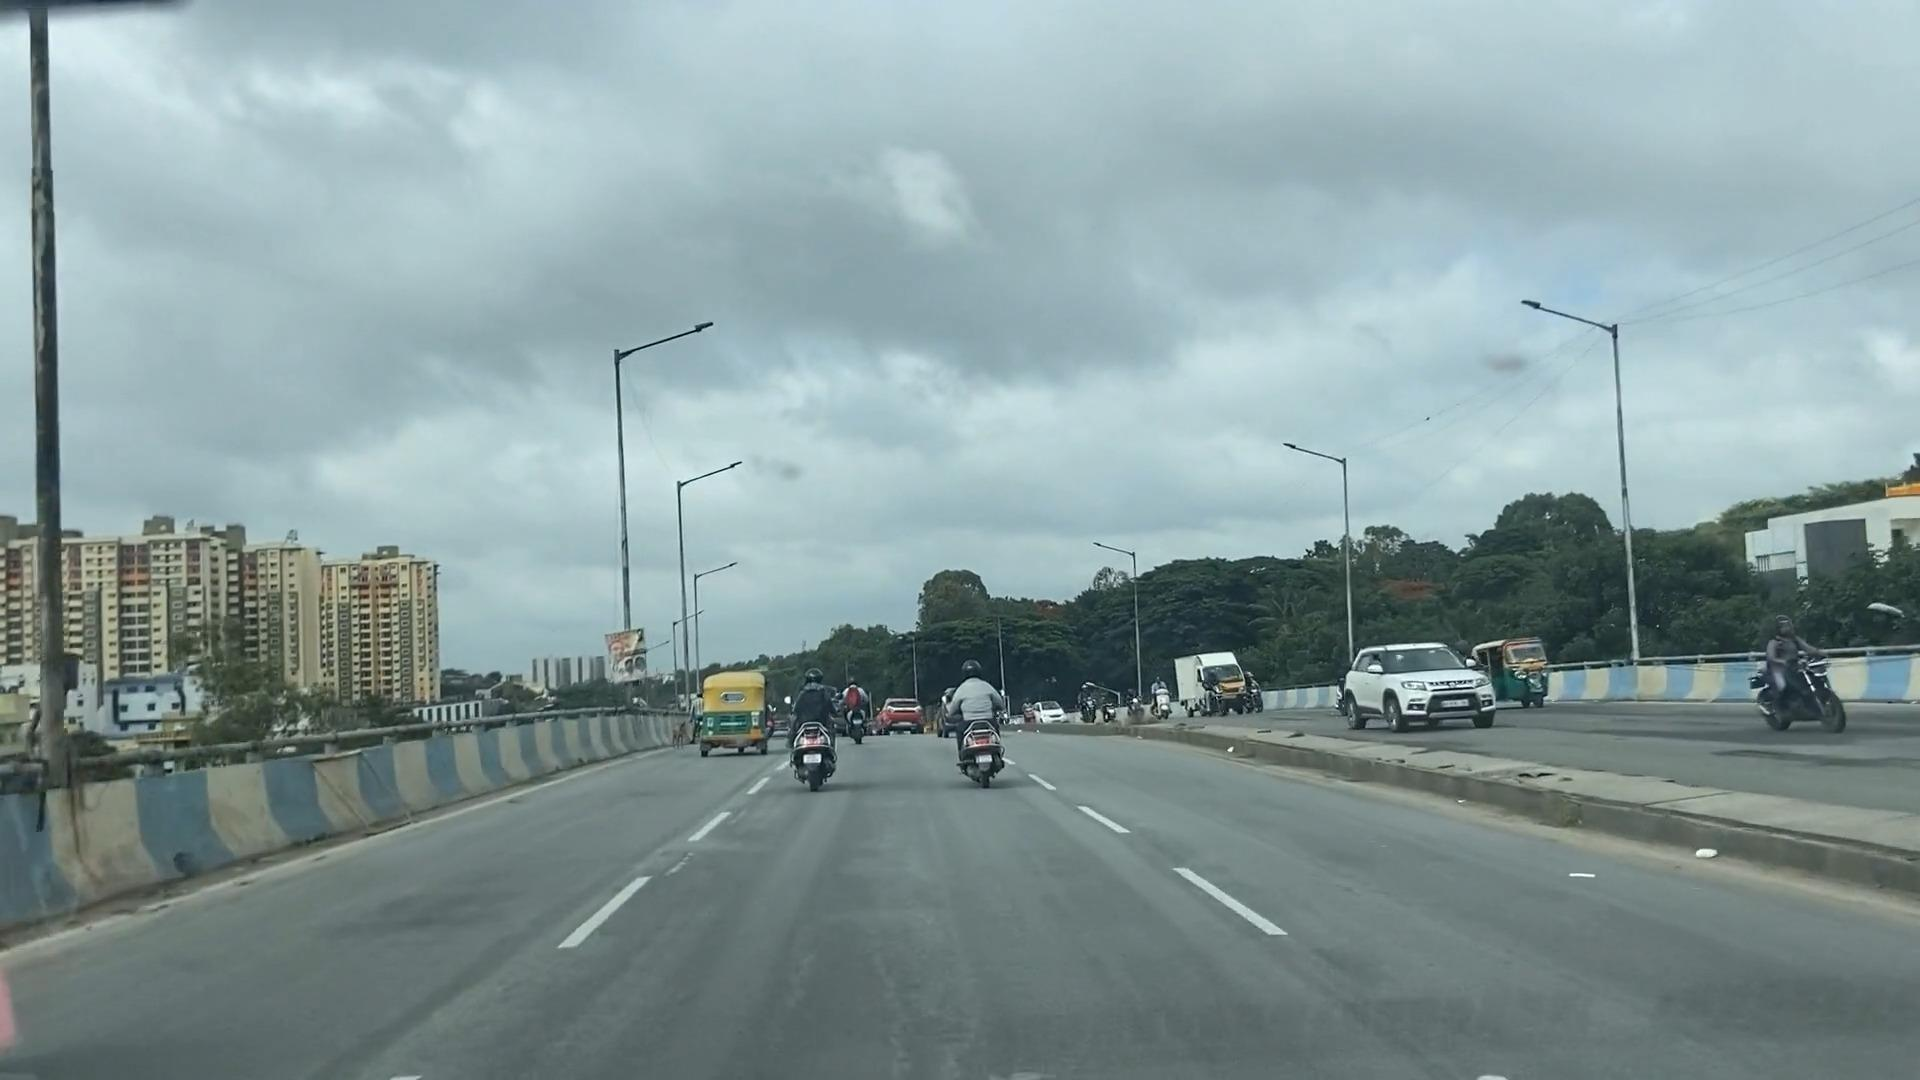LMV: (960, 662, 1006, 781), (702, 672, 760, 757), (798, 672, 836, 790)
RoadDamages: (770, 874, 1060, 1054)
